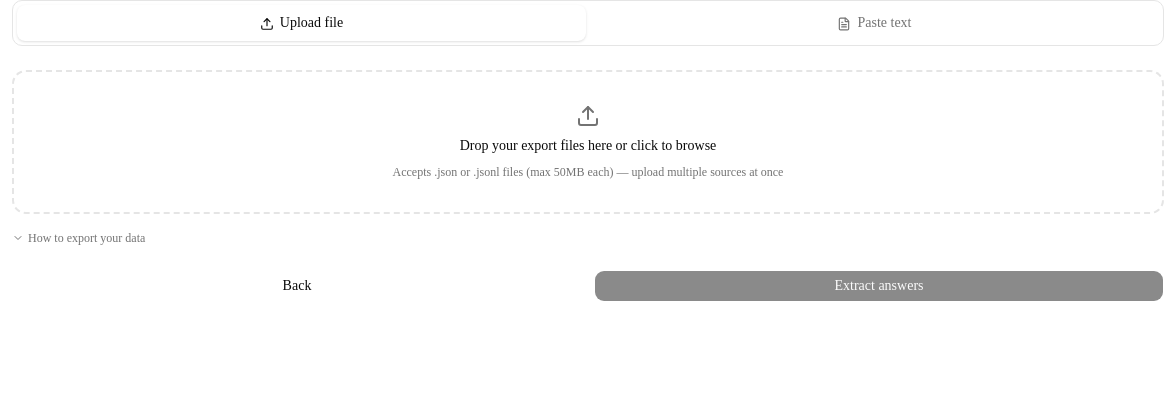
Scenario: MemoryImport › shows error on API failure
The width and height of the screenshot is (1176, 396).
Step 1. Click the button "Paste text" → (874, 23), box [590,5,1159,41]
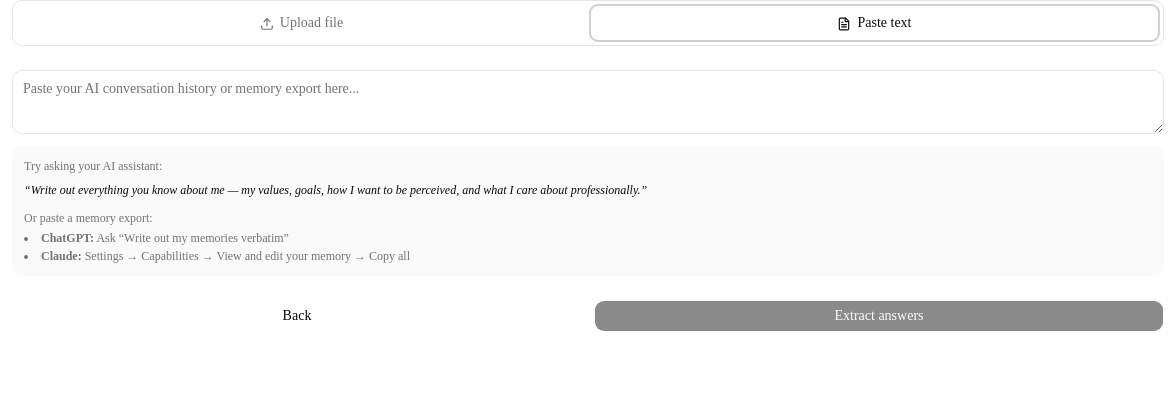
Step 2. Type "text" into the text box with placeholder "Paste your AI conversation history or memory export here..." → (588, 102), box [12,70,1164,134]
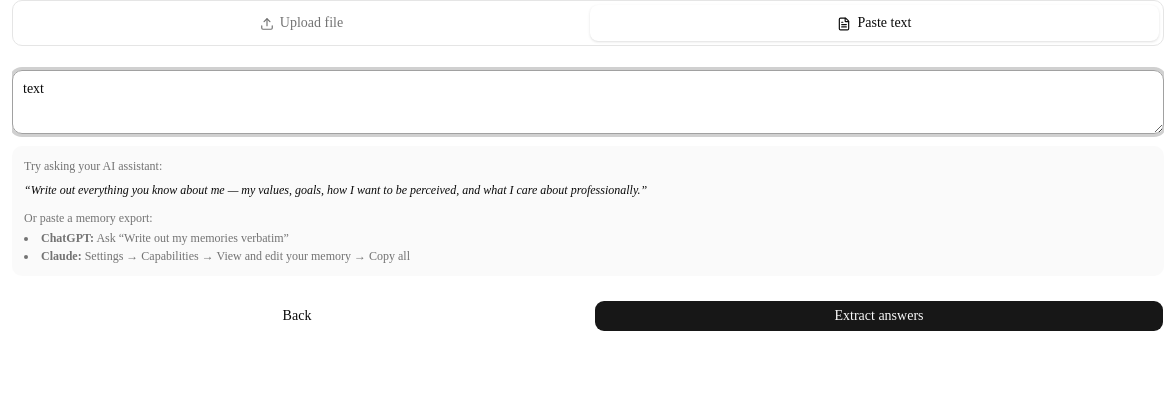
Step 3. Click the button "Extract answers" → (879, 316), box [594,300,1164,332]
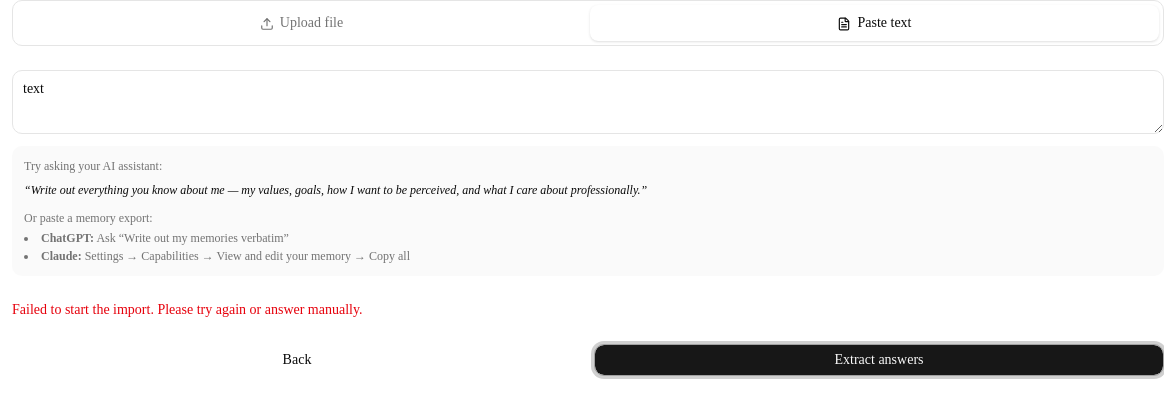
Check: the text "Failed to start" is shown, box [12,302,363,317]
